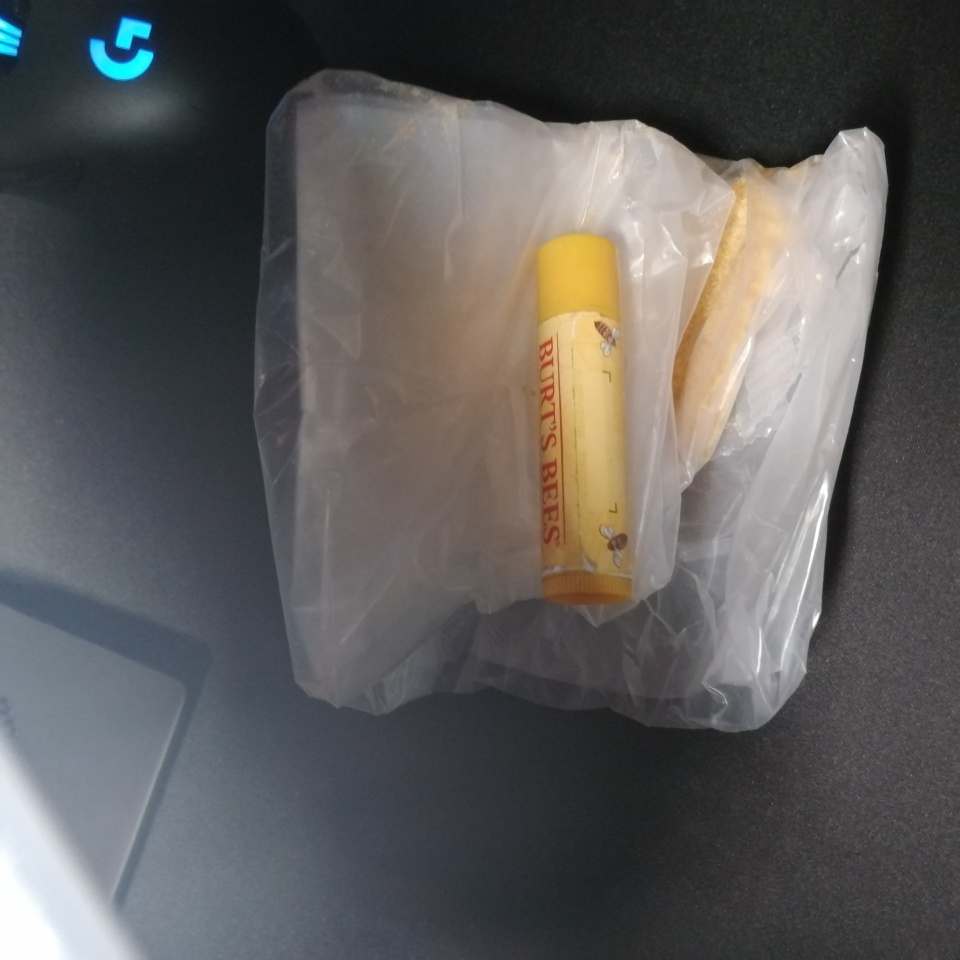chapstick: (532, 230, 634, 605)
